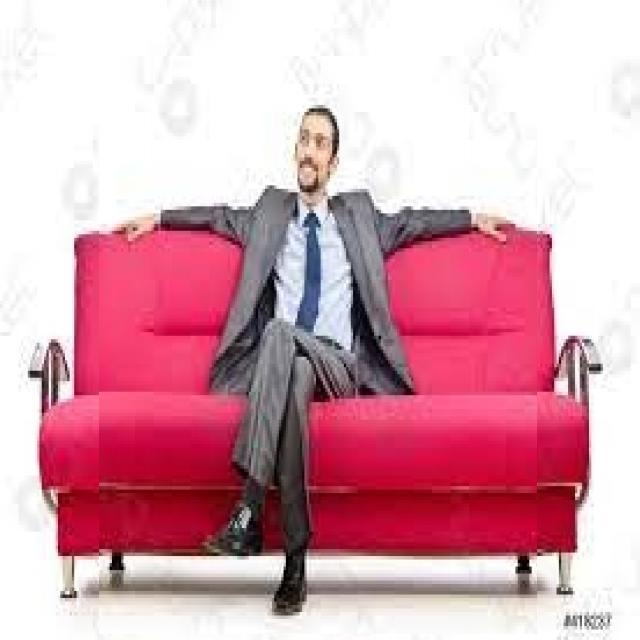NotFall: (105, 68, 506, 585)
